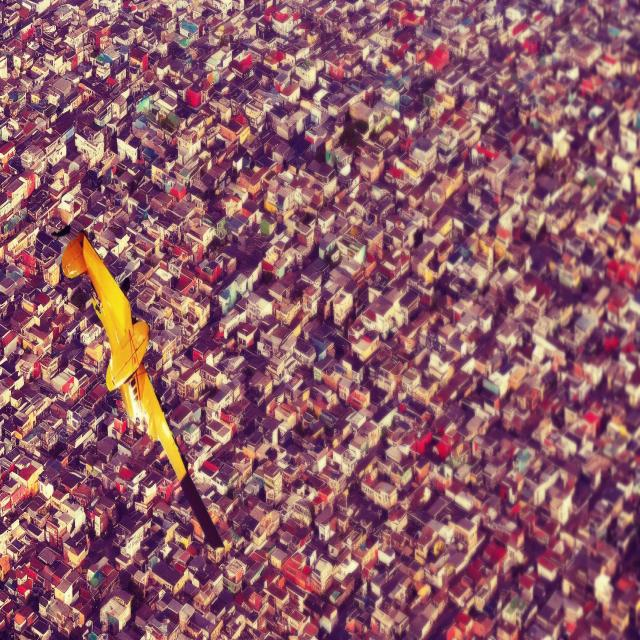airplane: (61, 229, 229, 563)
